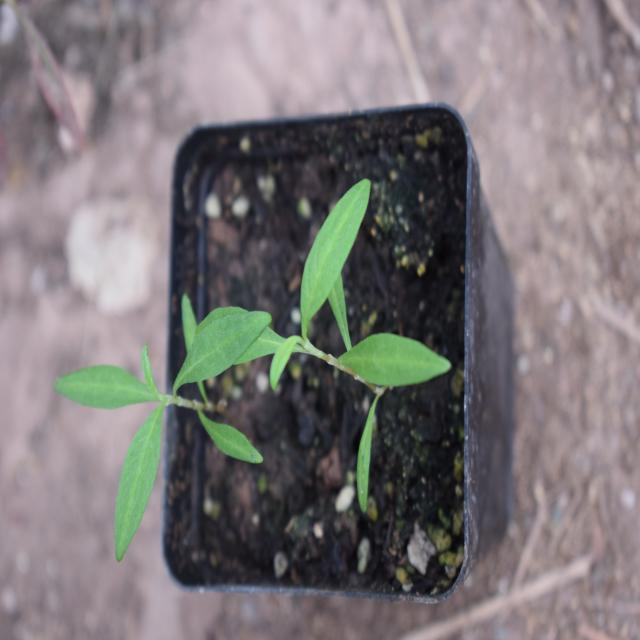white_smart_weed: (253, 193, 466, 518), (54, 268, 268, 544)
